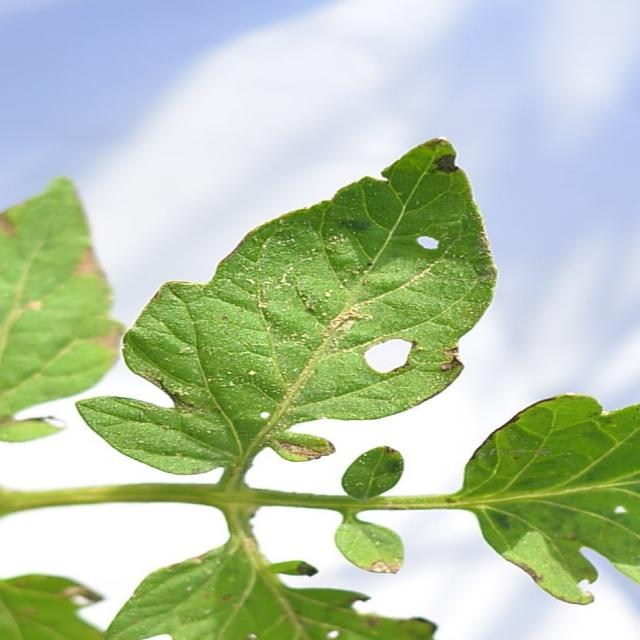infected: (351, 135, 511, 433), (458, 390, 628, 612), (45, 577, 445, 633), (43, 235, 127, 362), (356, 552, 420, 578), (3, 196, 24, 244)
